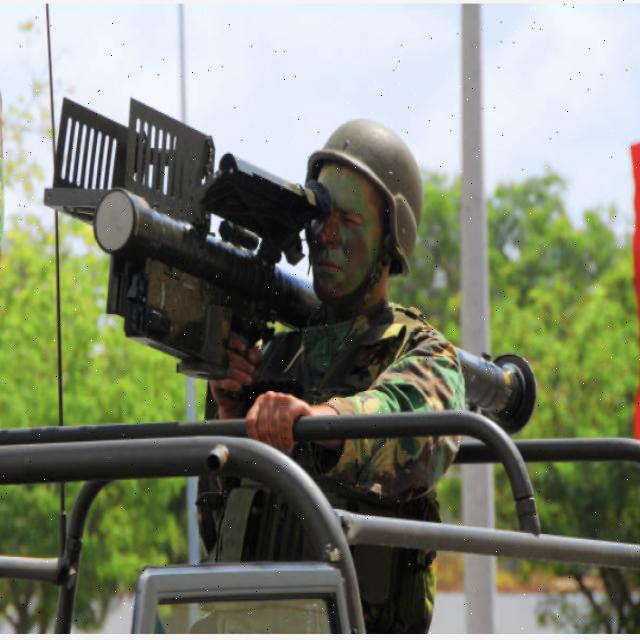bazooka: (36, 85, 556, 470)
